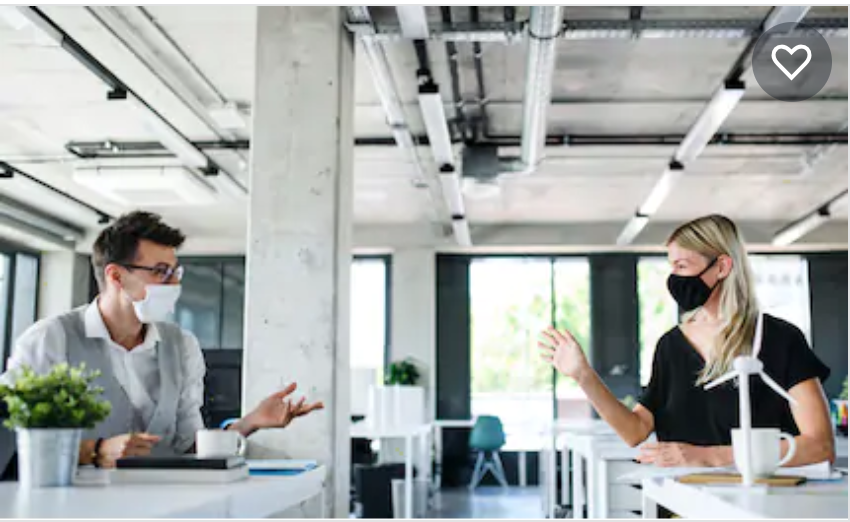Good: (65, 198, 837, 489)
